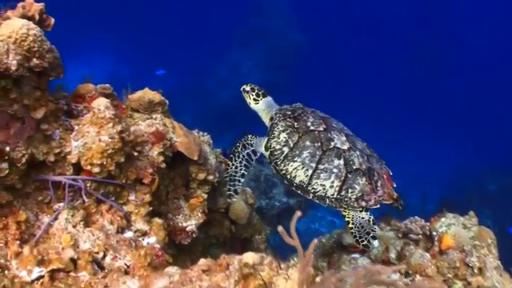Fish: (225, 84, 402, 249)
